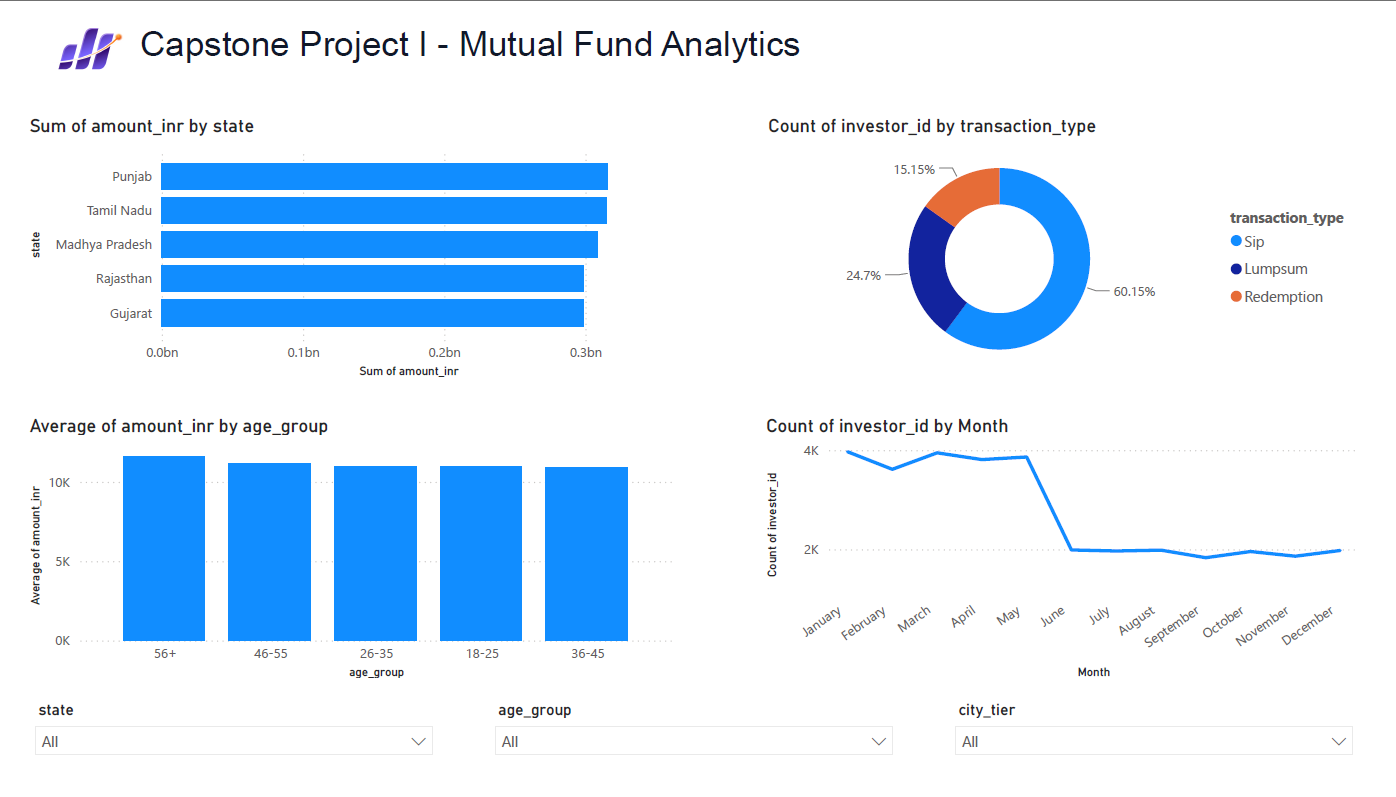

What the dashboard file says about the page in this screenshot:
{"tool":"powerbi","page":{"name":"Investor Analytics","canvas":[1280,720],"ordinal":2},"visuals":[{"type":"slicer","fields":{"Values":["clean_transactions.state"]},"box":[23.4,629.8,383.7,60.5],"z":0},{"type":"slicer","fields":{"Values":["clean_transactions.age_group"]},"box":[444.2,629.8,383.7,60.5],"z":1},{"type":"slicer","fields":{"Values":["clean_transactions.city_tier"]},"box":[865,629.8,383.7,60.5],"z":2},{"type":"clusteredBarChart","fields":{"Category":["clean_transactions.state"],"Y":["Sum(clean_transactions.amount_inr)"]},"box":[23.4,99,598.2,244.8],"z":3},{"type":"donutChart","fields":{"Category":["clean_transactions.transaction_type"],"Y":["CountNonNull(clean_transactions.investor_id)"]},"box":[698.6,99,551.4,244.8],"z":4},{"type":"clusteredColumnChart","fields":{"Category":["clean_transactions.age_group"],"Y":["Avg(clean_transactions.amount_inr)"]},"box":[23.4,372.7,598.2,246.2],"z":5},{"type":"lineChart","fields":{"Y":["CountNonNull(clean_transactions.investor_id)"],"Category":["clean_transactions.transaction_date.Variation.Date Hierarchy.Month"]},"box":[697.2,372.7,551.4,246.2],"z":6},{"type":"textbox","box":[123.8,11,668.3,56.4],"z":7},{"type":"image","box":[0,0,166.4,77],"z":8}]}

Visuals, with their boxes in screenshot pixels (x1, y1, x2, y2), scaled from the page's 1280x720 canvas onto the 1396x797 screenshot:
slicer - clean_transactions.state: l=26, t=697, r=444, b=764
slicer - clean_transactions.age_group: l=484, t=697, r=903, b=764
slicer - clean_transactions.city_tier: l=943, t=697, r=1362, b=764
clusteredBarChart - clean_transactions.state x Sum(clean_transactions.amount_inr): l=26, t=110, r=678, b=381
donutChart - clean_transactions.transaction_type x CountNonNull(clean_transactions.investor_id): l=762, t=110, r=1363, b=381
clusteredColumnChart - clean_transactions.age_group x Avg(clean_transactions.amount_inr): l=26, t=413, r=678, b=685
lineChart - CountNonNull(clean_transactions.investor_id) x clean_transactions.transaction_date.Variation.Date Hierarchy.Month: l=760, t=413, r=1362, b=685
textbox: l=135, t=12, r=864, b=75
image: l=0, t=0, r=181, b=85
